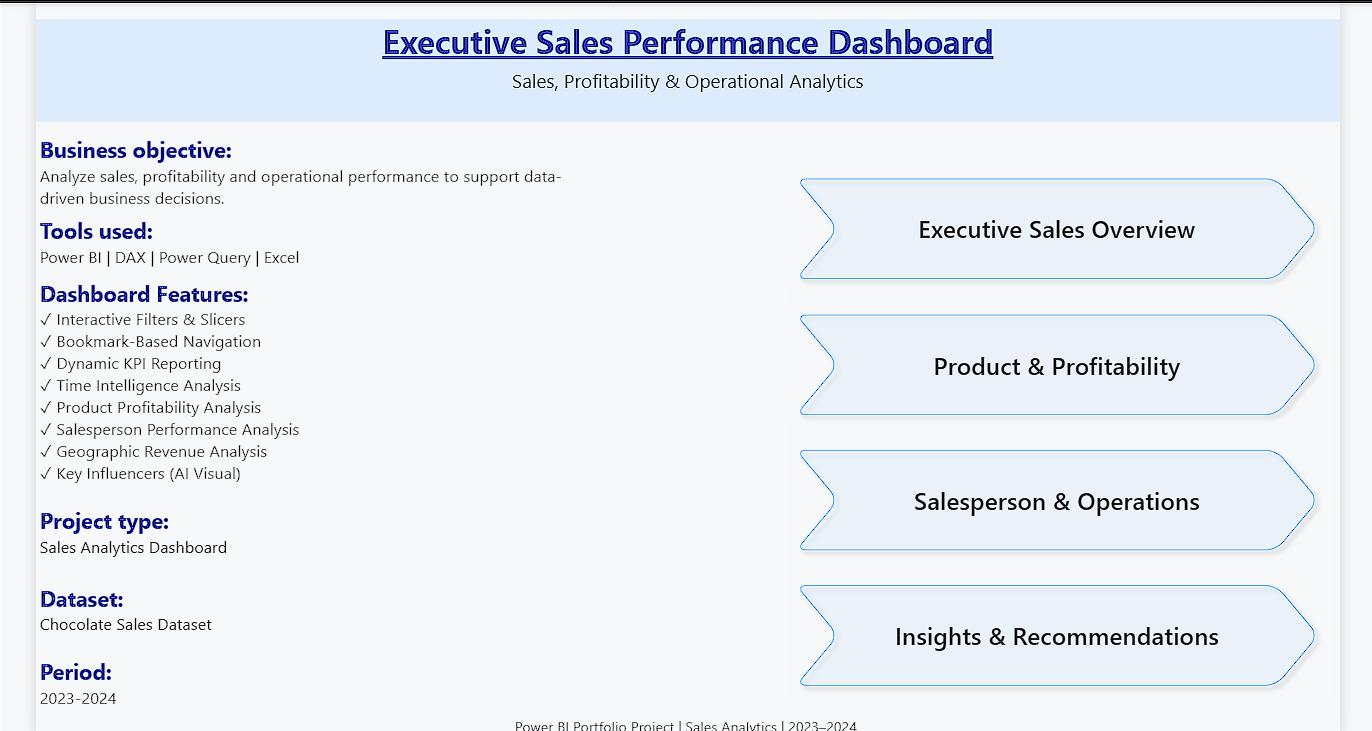

Layout of this report page (visuals, bound fields, positions):
{"tool":"powerbi","page":{"name":"Executive Sales Performance Dashboard","canvas":[1280,720],"ordinal":0},"visuals":[{"type":"pageNavigator","box":[736.2,158.3,532.5,526.4],"z":0},{"type":"textbox","box":[0,16,1279.8,100.6],"z":1000},{"type":"textbox","box":[3.7,128.8,547.2,79.8],"z":2000},{"type":"textbox","box":[3.7,208.6,547.2,50.3],"z":3000},{"type":"textbox","box":[3.7,493.3,547.2,65],"z":4000},{"type":"textbox","box":[3.7,569.3,547.2,56.4],"z":5000},{"type":"textbox","box":[3.7,641.7,547.2,58.9],"z":6000},{"type":"textbox","box":[3.7,269.9,547.2,203.7],"z":7000},{"type":"textbox","box":[469.9,700.6,341.1,19.6],"z":8000}]}

Visuals, with their boxes on the page's 1280x720 design canvas (x1, y1, x2, y2). These are canvas units, not pixel positions in the 1372x731 screenshot, which may show the page scaled, cropped or inside an application window:
pageNavigator: box(736, 158, 1269, 685)
textbox: box(0, 16, 1280, 117)
textbox: box(4, 129, 551, 209)
textbox: box(4, 209, 551, 259)
textbox: box(4, 493, 551, 558)
textbox: box(4, 569, 551, 626)
textbox: box(4, 642, 551, 701)
textbox: box(4, 270, 551, 474)
textbox: box(470, 701, 811, 720)
